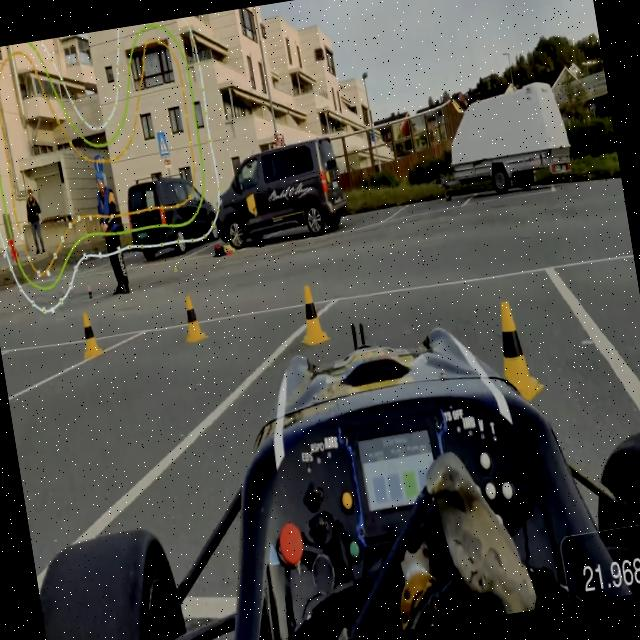yellow_cone: (493, 291, 546, 397), (292, 280, 332, 348), (179, 292, 208, 344), (76, 309, 104, 361)
